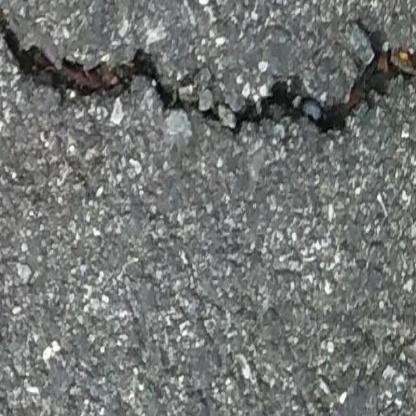Cracks: (0, 0, 416, 146)
